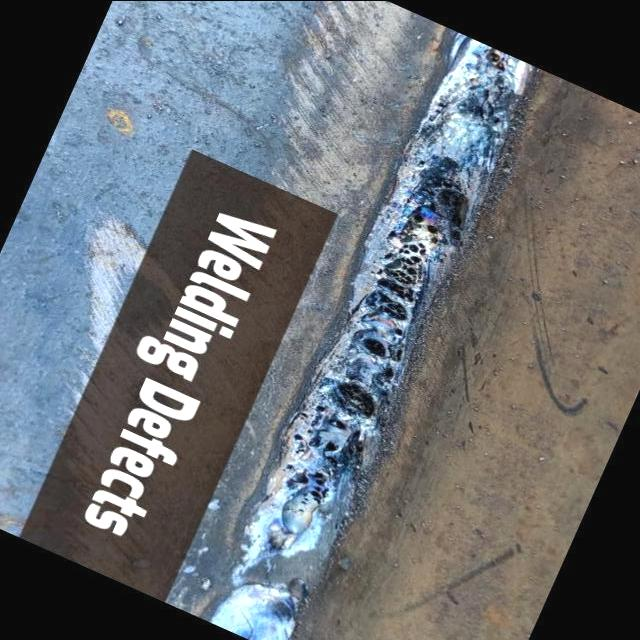defect: (363, 173, 470, 320), (280, 461, 333, 517), (333, 379, 379, 421), (364, 335, 405, 362), (467, 98, 501, 126), (346, 424, 371, 458), (486, 47, 510, 72), (321, 439, 341, 469), (325, 418, 349, 431), (433, 99, 449, 116), (382, 366, 397, 377), (394, 325, 405, 338), (295, 410, 310, 418), (303, 426, 317, 434), (293, 446, 307, 454), (314, 403, 326, 412), (293, 432, 305, 439), (379, 389, 390, 395), (420, 158, 427, 166)
